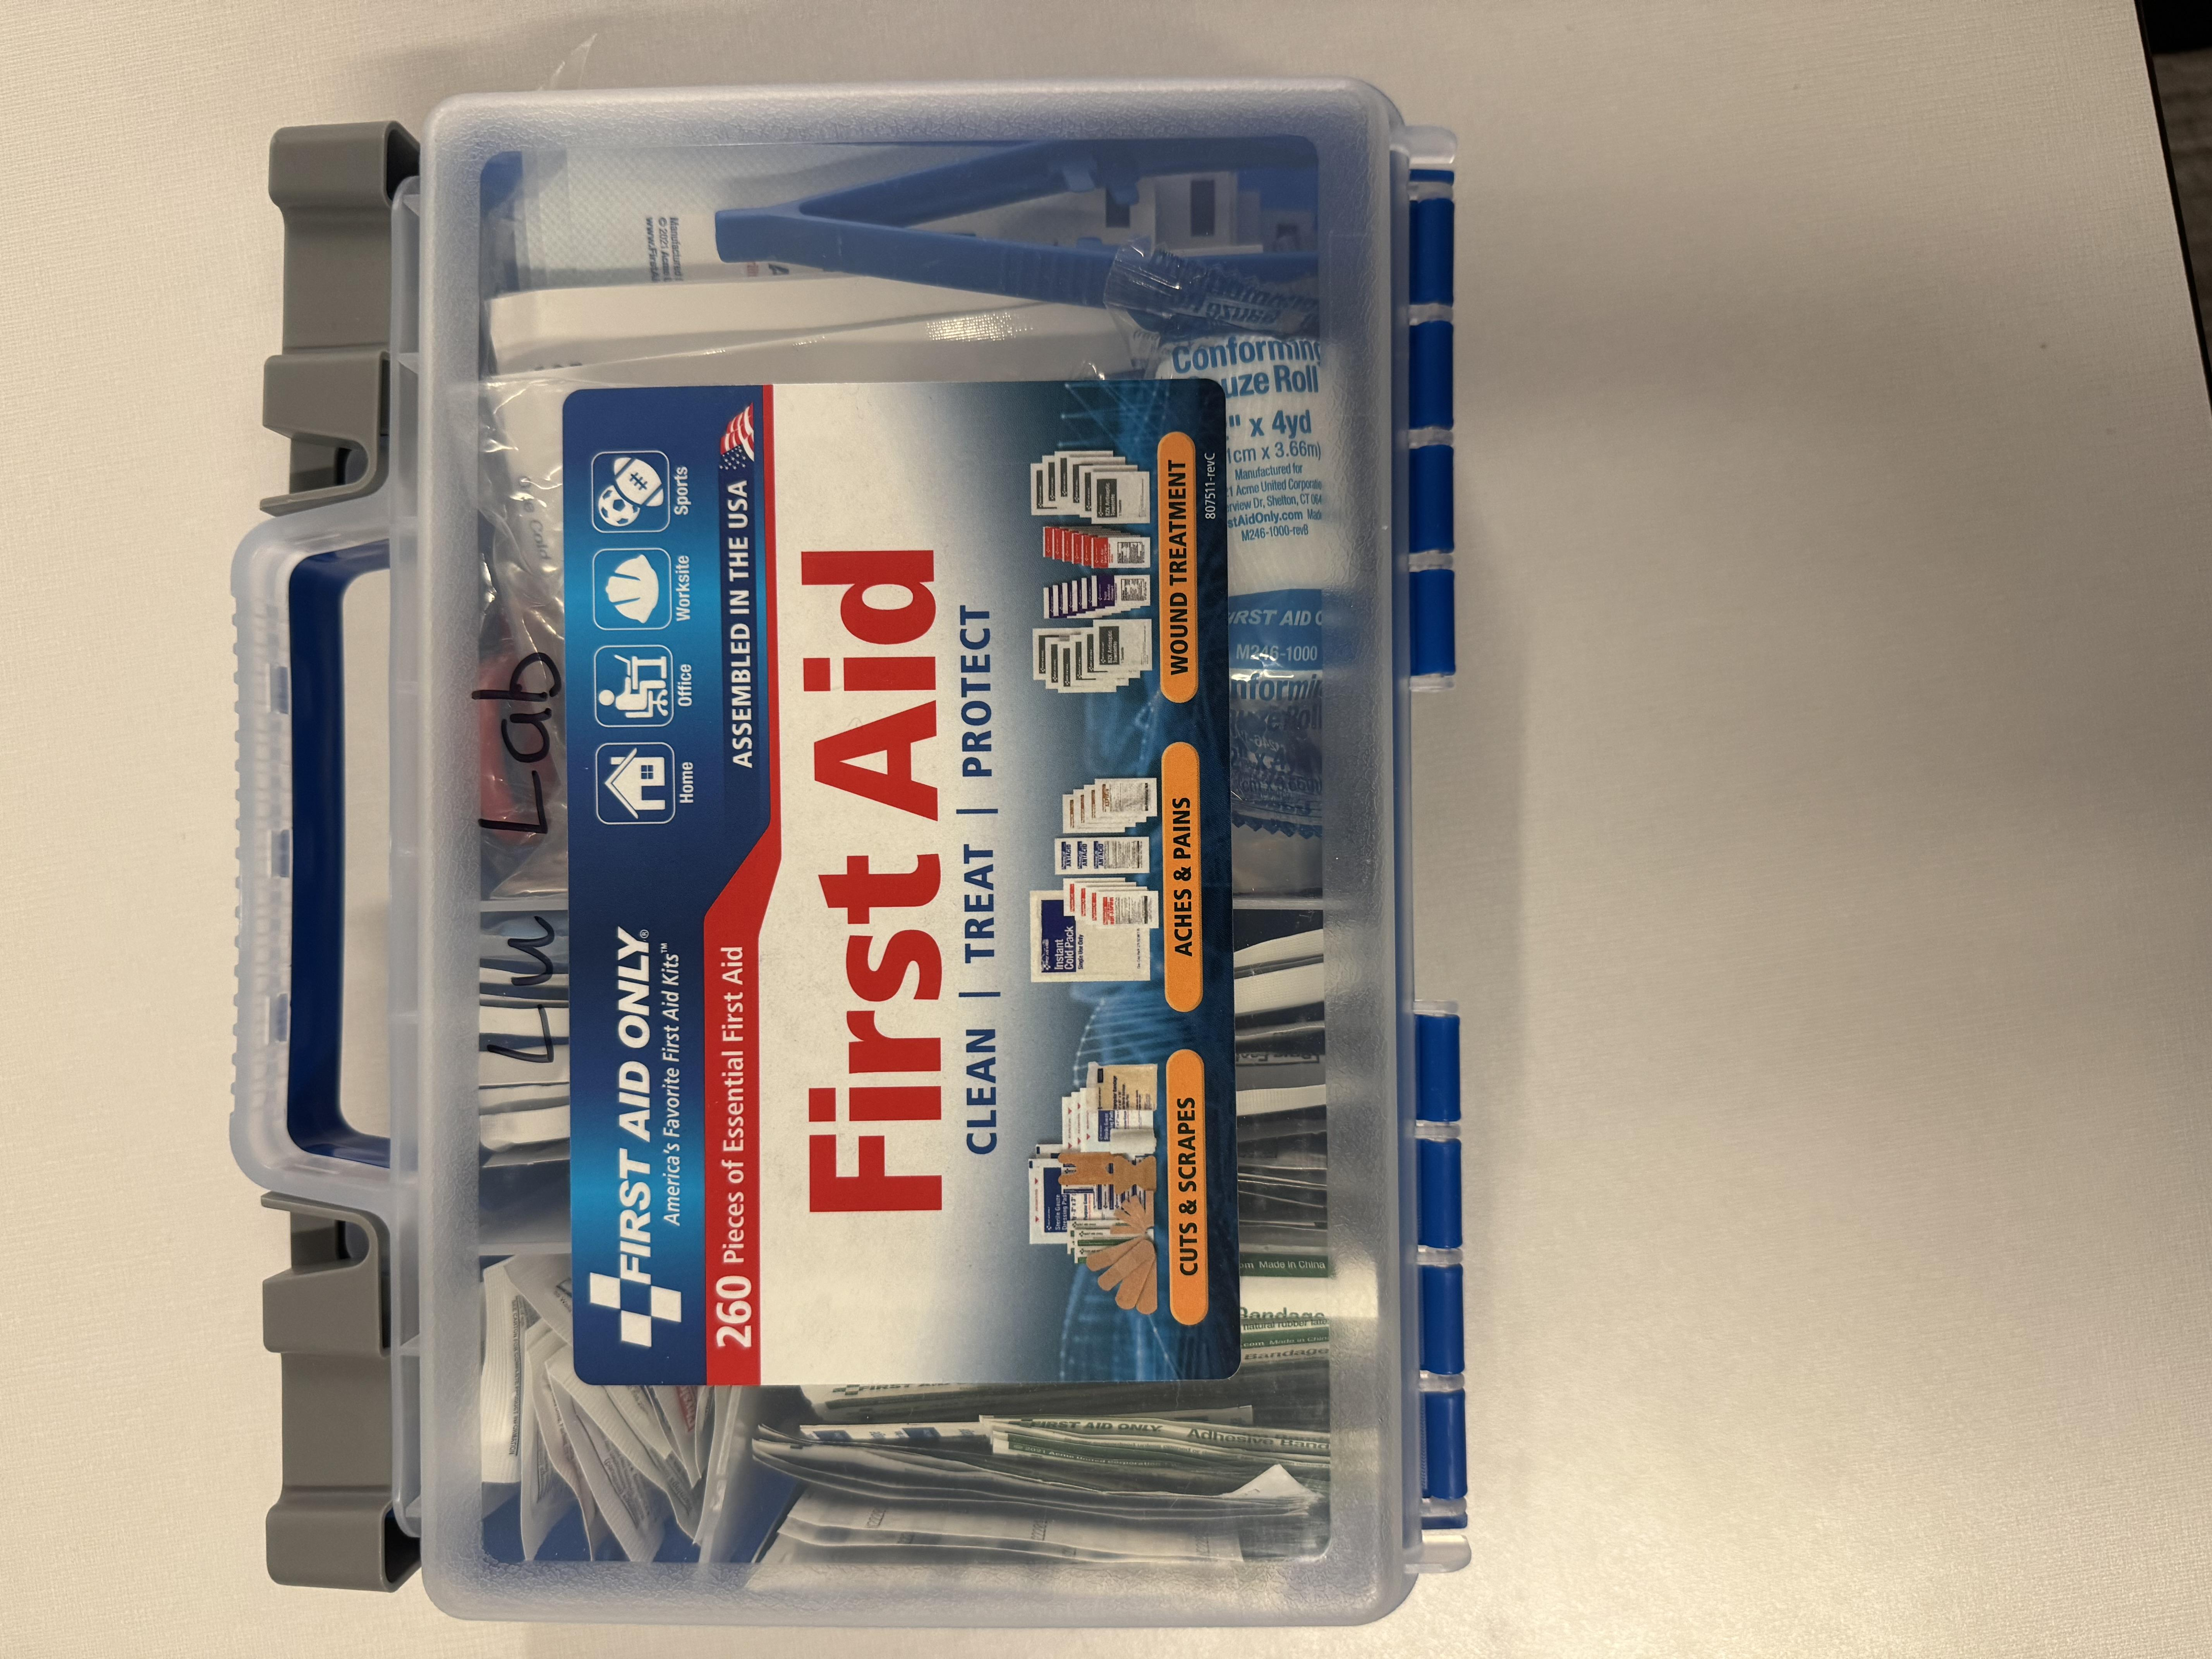first aid kit: (716, 7, 2038, 1635)
